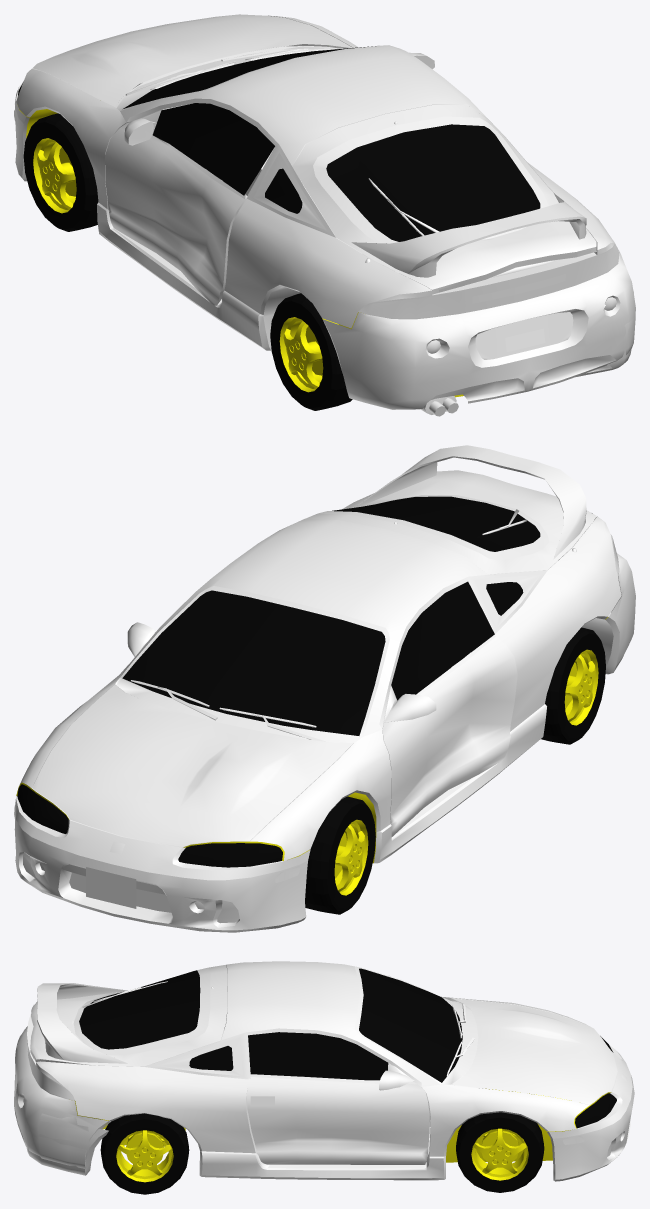
Rendered from eclipse.glb.
3 renders of one model, top to bottom at view 1: azimuth 30°, elevation 25°; view 2: azimuth 150°, elevation 25°; view 3: azimuth 270°, elevation 25°, orthographic. The views are drawn at different scales.
Parts seen in each view (by area): view 1: chassis, boot_dam, window_boot_dam, bump_rear_ok, door_lf_dam, bonnet_ok, bump_rear_dam, wheel.003, window_lf_dam, wheel.002, taillights, windscreen_ok (+3 smaller); view 2: chassis, bonnet_ok, windscreen_ok, bump_front_ok, door_lf_dam, boot_dam, window_lf_dam, wheel.003, window_boot_dam, wheel.002, headlights, bump_rear_dam (+2 smaller); view 3: chassis, door_rf_ok, bonnet_ok, boot_dam, windscreen_ok, window_boot_dam, wheel, wheel.001, window_rf_ok, bump_rear_ok, bump_front_ok, bump_rear_dam (+2 smaller).
Boxes of the visible parts, x1=… form: chassis: x1=16, y1=15, x2=619, y2=397; boot_dam: x1=292, y1=105, x2=597, y2=294; window_boot_dam: x1=326, y1=124, x2=540, y2=241; bump_rear_ok: x1=427, y1=250, x2=635, y2=403; door_lf_dam: x1=105, y1=110, x2=247, y2=305; bonnet_ok: x1=32, y1=14, x2=352, y2=106; bump_rear_dam: x1=322, y1=291, x2=635, y2=409; wheel.003: x1=23, y1=113, x2=98, y2=231; window_lf_dam: x1=152, y1=103, x2=274, y2=195; wheel.002: x1=270, y1=293, x2=352, y2=410; taillights: x1=361, y1=244, x2=618, y2=318; windscreen_ok: x1=123, y1=46, x2=375, y2=213; chassis: x1=16, y1=493, x2=621, y2=863; bonnet_ok: x1=32, y1=684, x2=353, y2=846; windscreen_ok: x1=122, y1=582, x2=523, y2=735; bump_front_ok: x1=14, y1=796, x2=310, y2=932; door_lf_dam: x1=382, y1=635, x2=517, y2=836; boot_dam: x1=306, y1=445, x2=596, y2=574; window_lf_dam: x1=391, y1=581, x2=494, y2=700; wheel.003: x1=305, y1=796, x2=375, y2=914; window_boot_dam: x1=332, y1=496, x2=540, y2=551; wheel.002: x1=541, y1=627, x2=605, y2=744; headlights: x1=17, y1=784, x2=282, y2=867; bump_rear_dam: x1=605, y1=553, x2=635, y2=674; chassis: x1=27, y1=961, x2=611, y2=1180; door_rf_ok: x1=246, y1=1063, x2=429, y2=1164; bonnet_ok: x1=451, y1=998, x2=617, y2=1104; boot_dam: x1=30, y1=965, x2=227, y2=1066; windscreen_ok: x1=189, y1=968, x2=462, y2=1082; window_boot_dam: x1=79, y1=970, x2=200, y2=1049; wheel: x1=456, y1=1112, x2=544, y2=1192; wheel.001: x1=100, y1=1113, x2=189, y2=1194; window_rf_ok: x1=248, y1=1032, x2=388, y2=1080; bump_rear_ok: x1=14, y1=1033, x2=110, y2=1168; bump_front_ok: x1=547, y1=1045, x2=634, y2=1181; bump_rear_dam: x1=18, y1=1026, x2=108, y2=1175.
Bounding box in the file's own units: 2.17 × 1.49 × 5.12.
